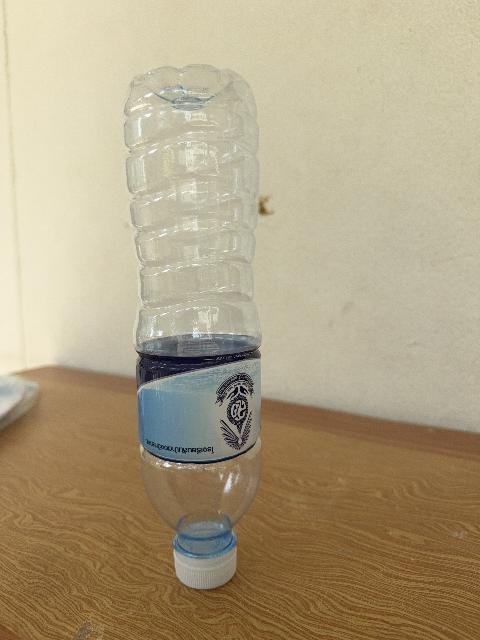bottle: (125, 66, 261, 588)
